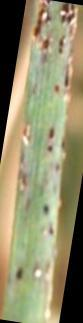Wheat: (23, 122, 58, 221), (33, 7, 70, 52), (10, 259, 52, 284), (40, 77, 65, 106)
